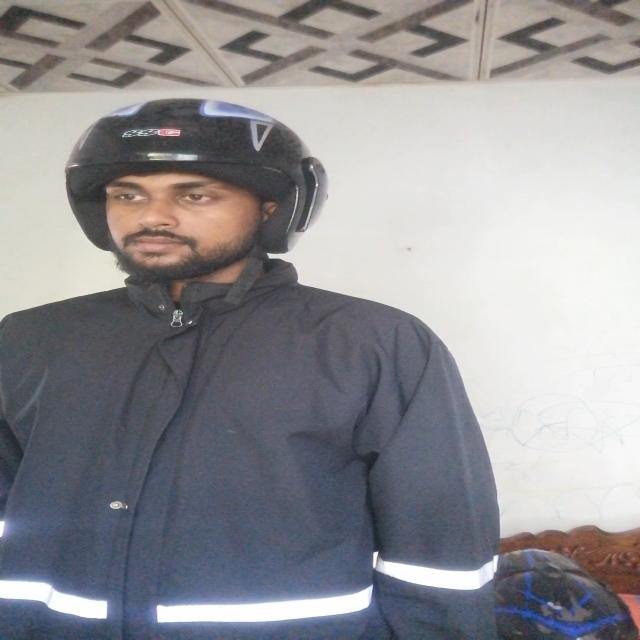Helmet_Wearer: (47, 94, 326, 288)
Jacket_Wearer: (0, 261, 498, 640)
Person: (4, 97, 500, 640)
